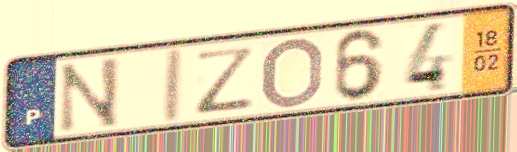4: (397, 20, 456, 95)
6: (331, 26, 387, 104)
I: (158, 44, 187, 128)
N: (56, 54, 122, 135)
O: (258, 35, 326, 110)
Z: (192, 43, 260, 116)
